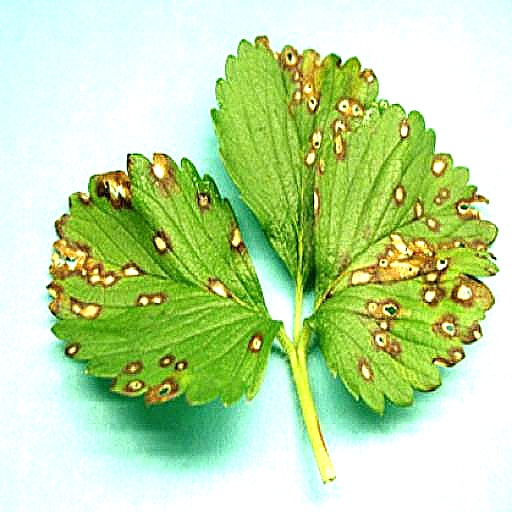Leaf Spot: (305, 96, 500, 409), (46, 104, 284, 360), (207, 219, 379, 478)
